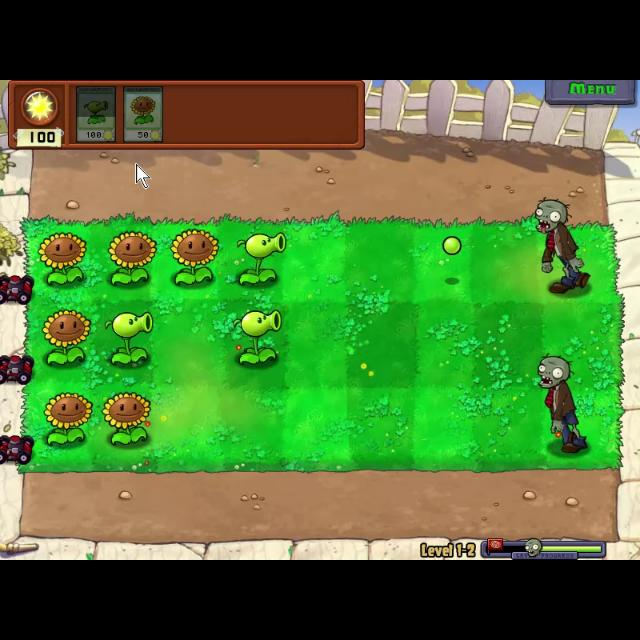Garden: (18, 214, 628, 474)
Menu Button: (543, 80, 639, 104)
Mower: (0, 270, 34, 308), (0, 351, 34, 385), (0, 433, 34, 465)
Peashooter: (75, 82, 117, 144)
Peashooter Seed: (231, 306, 287, 370), (101, 310, 160, 368), (231, 228, 287, 288)
Seed Panel: (6, 80, 368, 152)
Sunflower: (122, 83, 164, 143)
Sunflower Seed: (165, 228, 221, 288), (41, 306, 91, 372), (103, 230, 159, 288), (100, 389, 154, 449), (40, 389, 94, 447), (36, 228, 88, 286)
Zombie: (532, 352, 594, 460), (534, 192, 592, 294)
